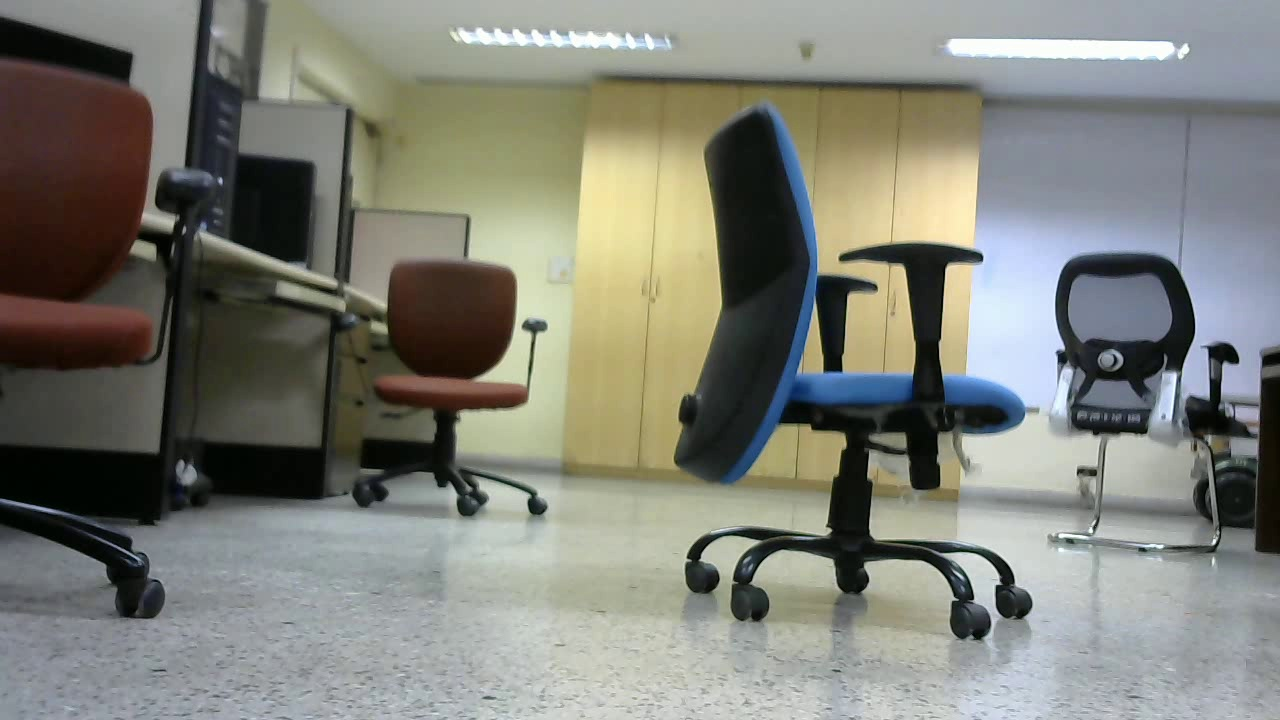chair: (687, 109, 1036, 634), (347, 251, 549, 519), (1046, 256, 1226, 553)
